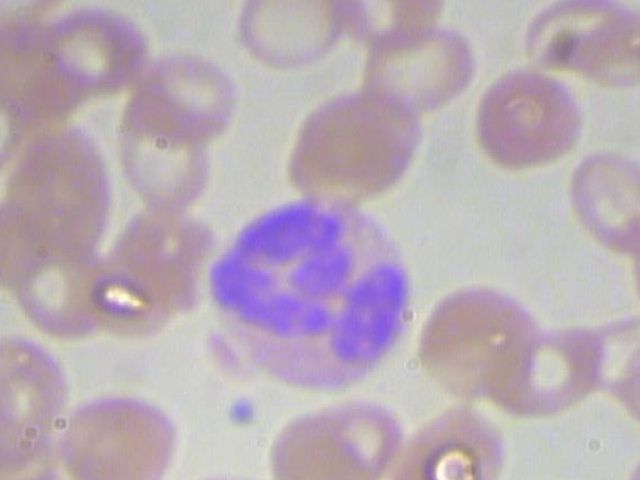Platelets: (220, 387, 260, 433)
RBC: (274, 84, 424, 206), (413, 279, 549, 406), (0, 122, 113, 270), (110, 96, 229, 220), (466, 65, 592, 171), (123, 40, 249, 146), (55, 377, 181, 480), (357, 24, 481, 122), (264, 397, 410, 480), (395, 404, 520, 480), (228, 0, 353, 68), (568, 140, 640, 252), (0, 328, 74, 433), (325, 0, 456, 55)
WBC: (199, 184, 439, 395)
